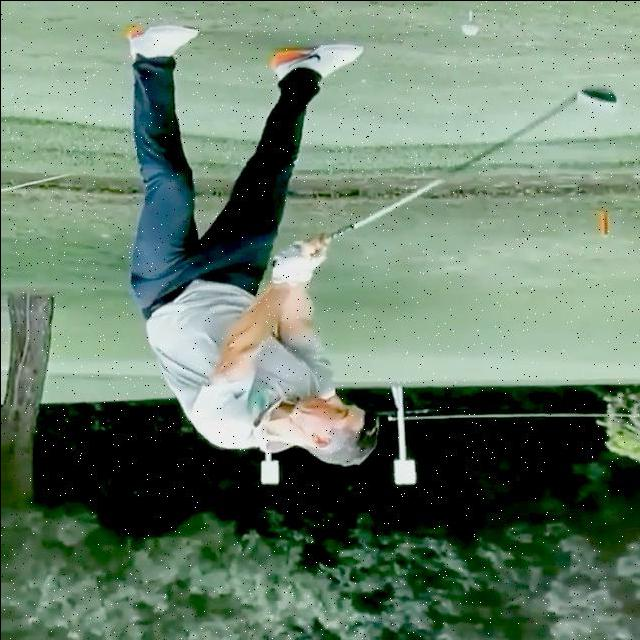golf club-handle: (269, 86, 615, 266)
golf club-head: (577, 85, 617, 103)
